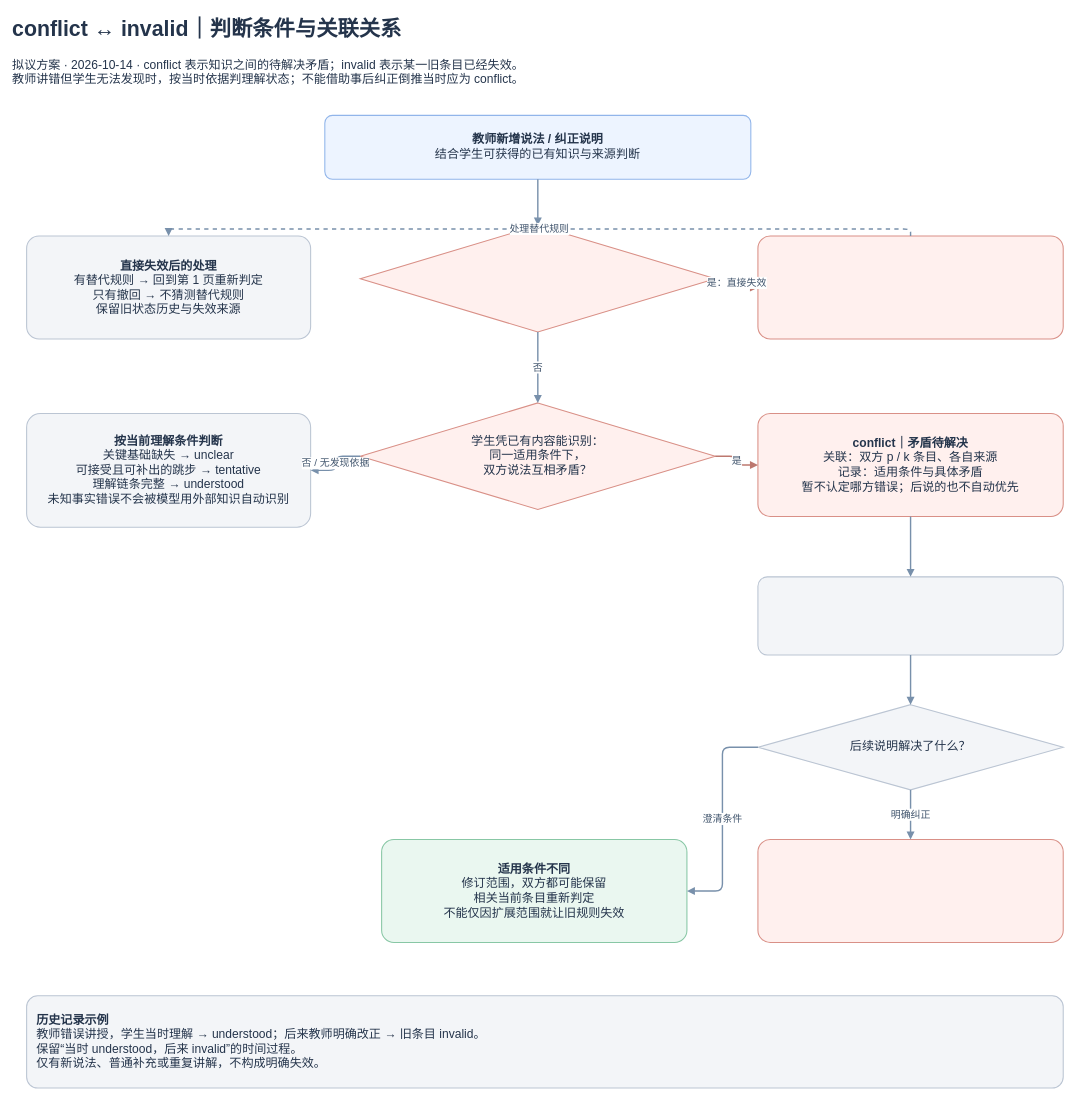
Some shapes in this 1089 by 1101 pixel diagram are drawn without their labels. Here are the shapes that lost their labels. From the top down, the centre of each, then its label:
pixel 537 278: 教师明确撤回、纠正或替代， 且能定位具体旧条目？
pixel 910 287: 旧条目 → invalid｜已失效 关联：旧知识 ID、教师纠正来源 有新规则时记录替代知识 ID 明确失效，不代表已证明在所有条件下错误
pixel 910 615: 教师后续澄清 尚未澄清：保持 conflict 普通补充或重复讲解不能触发 invalid
pixel 910 891: 明确纠正其中一条 被纠正旧条目 → invalid 其余保留 / 修订规则重新判定 新规则不自动 understood
